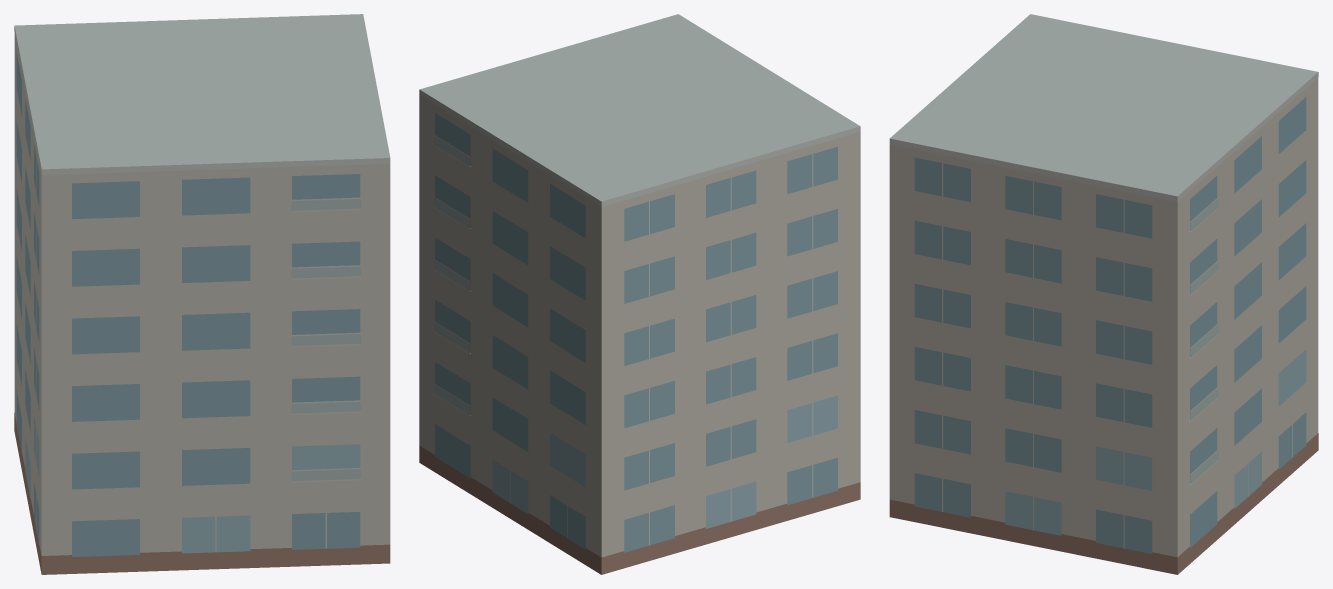
Rendered from survey-upis-32975057.glb.
The picture shows the model from 3 angles, left to right: view 1: azimuth 30°, elevation 25°; view 2: azimuth 150°, elevation 25°; view 3: azimuth 270°, elevation 25°; orthographic projection. The views are drawn at different scales.
Visible parts, largest first — view 1: survey-upis-32975057.tmp; view 2: survey-upis-32975057.tmp; view 3: survey-upis-32975057.tmp.
Part boxes in pixels (box(x1,y1,x2,y2)): survey-upis-32975057.tmp: box(14, 14, 390, 574); survey-upis-32975057.tmp: box(419, 14, 860, 574); survey-upis-32975057.tmp: box(889, 14, 1318, 574).
Size of the model in its own units: 17.47 by 16.9 by 17.36.
